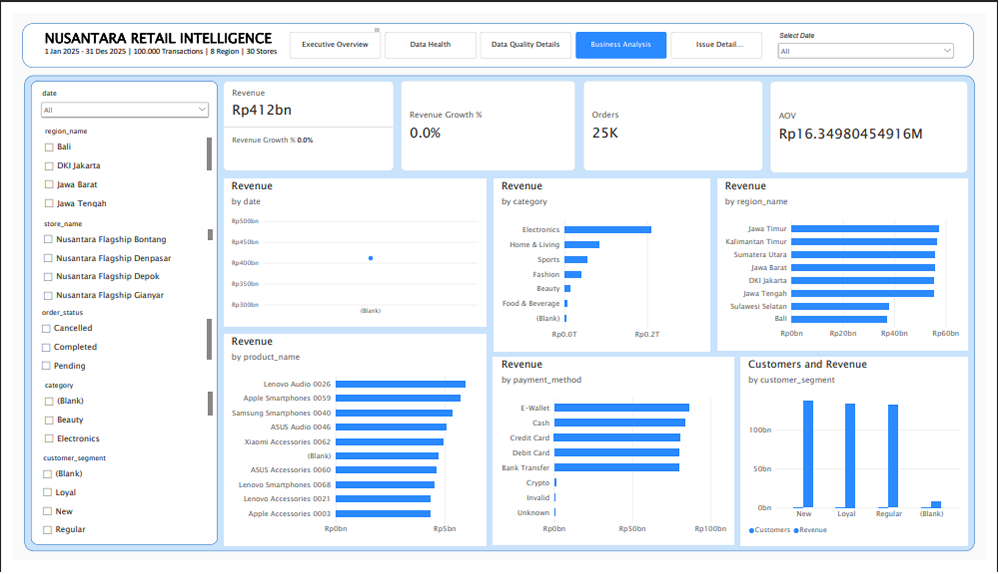

Layout of this report page (visuals, bound fields, positions):
{"tool":"powerbi","page":{"name":"Business Analysis","canvas":[1920,1080],"ordinal":3},"visuals":[{"type":"group","id":"g1","title":"Navbar and Layout","box":[20,20,1878,1042],"z":0},{"type":"textbox","box":[63.6,65.6,706.9,24.3],"z":0,"group":"g3"},{"type":"shape","box":[23.8,122.5,1874.4,940.4],"z":0,"group":"g1"},{"type":"slicer","fields":{"Values":["warehouse dim_date.date"]},"box":[52.5,148,340.9,60.9],"z":0,"group":"g2"},{"type":"lineChart","fields":{"Category":["warehouse dim_date.date"],"Y":["MEASURES (2).Revenue"]},"box":[416.7,326.7,517.4,292.2],"z":0,"group":"g5"},{"type":"shape","box":[20,20,1875.7,87.9],"z":1000,"group":"g1"},{"type":"textbox","box":[63.6,30,660.5,30.8],"z":1000,"group":"g3"},{"type":"shape","box":[37.1,134.3,368,915.2],"z":1000},{"type":"cardVisual","fields":{"Data":["MEASURES (2).AOV"]},"box":[1495.5,134.5,388.3,180],"z":1000,"group":"g4"},{"type":"slicer","fields":{"Values":["warehouse dim_region.region_name"]},"box":[57.5,222.5,335.5,160.9],"z":1000,"group":"g2"},{"type":"clusteredBarChart","fields":{"Category":["warehouse fact_sales.payment_method"],"Y":["MEASURES (2).Revenue"]},"box":[948.5,678.7,475.2,371.9],"z":1000,"group":"g5"},{"type":"cardVisual","fields":{"Data":["MEASURES (2).Orders"]},"box":[1126.8,133.9,353.3,176.7],"z":1500,"group":"g4"},{"type":"slicer","fields":{"Values":["warehouse dim_date.date"]},"box":[1505,36.7,356.7,53.3],"z":2000,"group":"g1"},{"type":"cardVisual","fields":{"Data":["MEASURES (2).Revenue"]},"box":[417.2,134.5,335,176.7],"z":2000,"group":"g4"},{"type":"group","id":"g2","title":"Group 2","box":[51.1,148,343.6,891.8],"z":2000},{"type":"clusteredBarChart","fields":{"Category":["warehouse dim_region.region_name"],"Y":["MEASURES (2).Revenue"]},"box":[1389.3,326.7,494.1,338.7],"z":2000,"group":"g5"},{"type":"slicer","fields":{"Values":["warehouse dim_store.store_name"]},"box":[55.5,405.3,338.2,168.2],"z":2000,"group":"g2"},{"type":"group","id":"g3","title":"Group 1","box":[63.6,30,707.1,60],"z":3000,"group":"g1"},{"type":"group","id":"g4","title":"Group 3","box":[417.2,133.9,1466.7,180.6],"z":3000},{"type":"cardVisual","fields":{"Data":["MEASURES (2).Revenue Growth %"]},"box":[766.8,134.2,343.3,176.7],"z":3000,"group":"g4"},{"type":"clusteredBarChart","fields":{"Category":["warehouse dim_product.category"],"Y":["MEASURES (2).Revenue"]},"box":[948.5,326.7,426.3,340.9],"z":3000,"group":"g5"},{"type":"slicer","fields":{"Values":["warehouse fact_sales.order_status"]},"box":[51.1,580.7,341.8,131.8],"z":3000,"group":"g2"},{"type":"group","id":"g5","title":"Group 4","box":[416.7,326.7,1466.7,725],"z":4000},{"type":"clusteredColumnChart","fields":{"Category":["warehouse dim_customer.customer_segment"],"Y":["MEASURES (2).Customers","MEASURES (2).Revenue"]},"box":[1435.9,678.7,447.4,373],"z":4000,"group":"g5"},{"type":"slicer","fields":{"Values":["warehouse dim_product.category"]},"box":[57.5,725.3,337.3,132.7],"z":4000,"group":"g2"},{"type":"pageNavigator","box":[546.7,36.7,933.3,53.3],"z":5000},{"type":"clusteredBarChart","fields":{"Category":["warehouse dim_product.product_name"],"Y":["MEASURES (2).Revenue"]},"box":[416.7,633.1,518.4,418.4],"z":5000,"group":"g5"},{"type":"slicer","fields":{"Values":["warehouse dim_customer.customer_segment"]},"box":[54.5,868,339.1,171.8],"z":5000,"group":"g2"}]}

Visuals, with their boxes in screenshot pixels (x1, y1, x2, y2), scaled from the page's 1920x1080 canvas onto the 999x574 screenshot:
"Navbar and Layout" group: (10, 11, 988, 564)
textbox: (33, 35, 401, 48)
shape: (12, 65, 988, 565)
slicer - warehouse dim_date.date: (27, 79, 205, 111)
lineChart - warehouse dim_date.date x MEASURES (2).Revenue: (217, 174, 486, 329)
shape: (10, 11, 986, 57)
textbox: (33, 16, 377, 32)
shape: (19, 71, 211, 558)
cardVisual - MEASURES (2).AOV: (778, 71, 980, 167)
slicer - warehouse dim_region.region_name: (30, 118, 204, 204)
clusteredBarChart - warehouse fact_sales.payment_method x MEASURES (2).Revenue: (494, 361, 741, 558)
cardVisual - MEASURES (2).Orders: (586, 71, 770, 165)
slicer - warehouse dim_date.date: (783, 20, 969, 48)
cardVisual - MEASURES (2).Revenue: (217, 71, 391, 165)
"Group 2" group: (27, 79, 205, 553)
clusteredBarChart - warehouse dim_region.region_name x MEASURES (2).Revenue: (723, 174, 980, 354)
slicer - warehouse dim_store.store_name: (29, 215, 205, 305)
"Group 1" group: (33, 16, 401, 48)
"Group 3" group: (217, 71, 980, 167)
cardVisual - MEASURES (2).Revenue Growth %: (399, 71, 578, 165)
clusteredBarChart - warehouse dim_product.category x MEASURES (2).Revenue: (494, 174, 715, 355)
slicer - warehouse fact_sales.order_status: (27, 309, 204, 379)
"Group 4" group: (217, 174, 980, 559)
clusteredColumnChart - warehouse dim_customer.customer_segment x MEASURES (2).Customers: (747, 361, 980, 559)
slicer - warehouse dim_product.category: (30, 385, 205, 456)
pageNavigator: (284, 20, 770, 48)
clusteredBarChart - warehouse dim_product.product_name x MEASURES (2).Revenue: (217, 336, 487, 559)
slicer - warehouse dim_customer.customer_segment: (28, 461, 205, 553)
